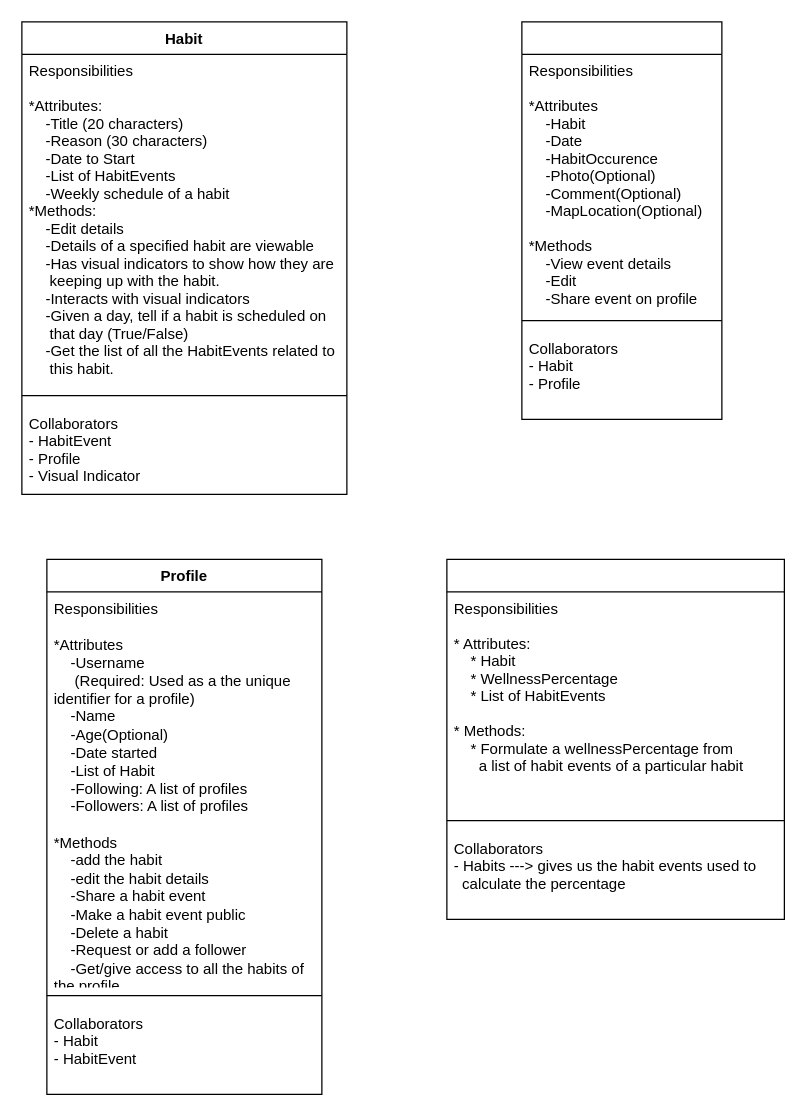
Image size: 806x1120. Some labels were removed from this diagram. Each missing label, with the box of its shape:
HabitEvent: (521, 21, 722, 419)
Visual Indicator: (446, 558, 784, 919)
